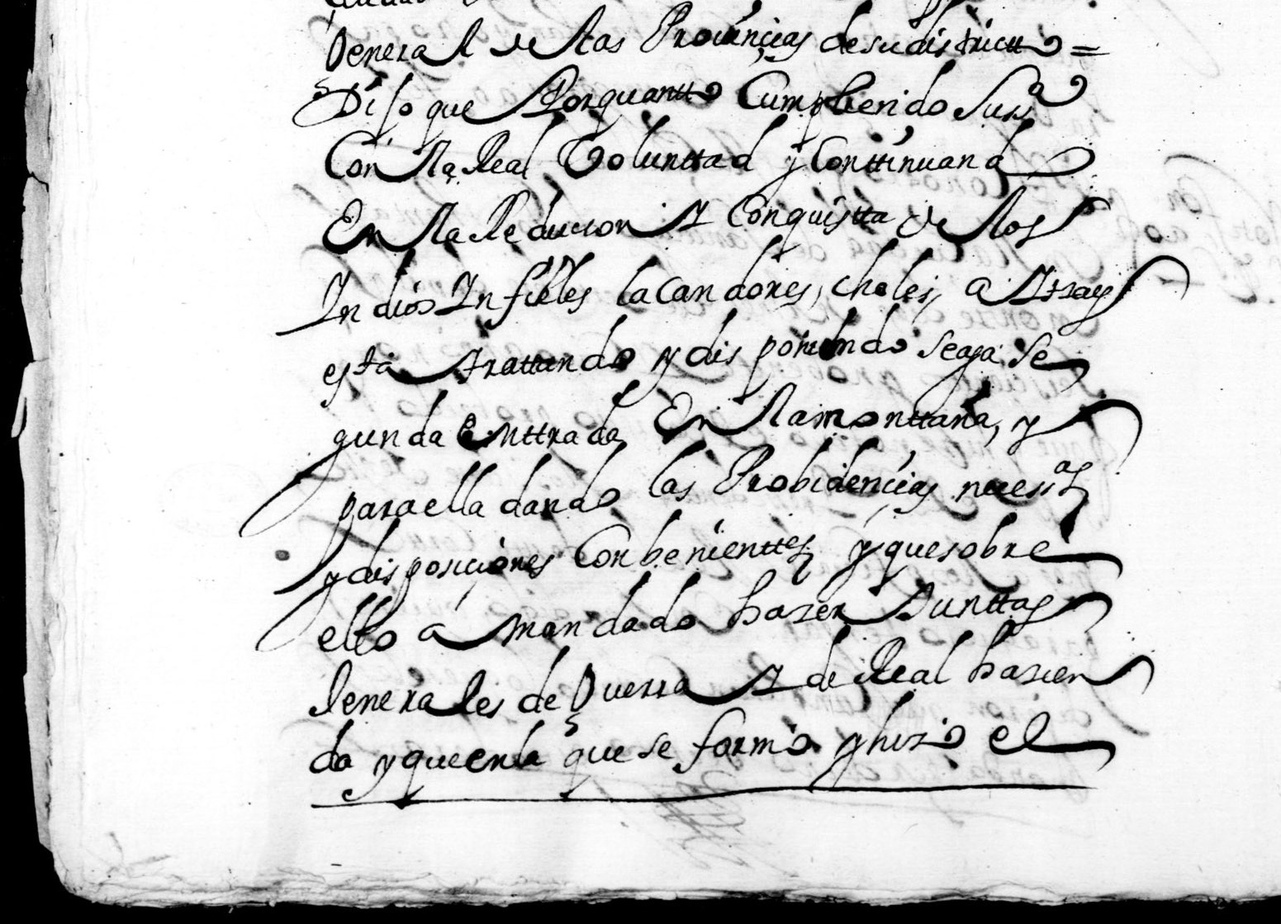lacandon: (616, 234, 812, 307)
